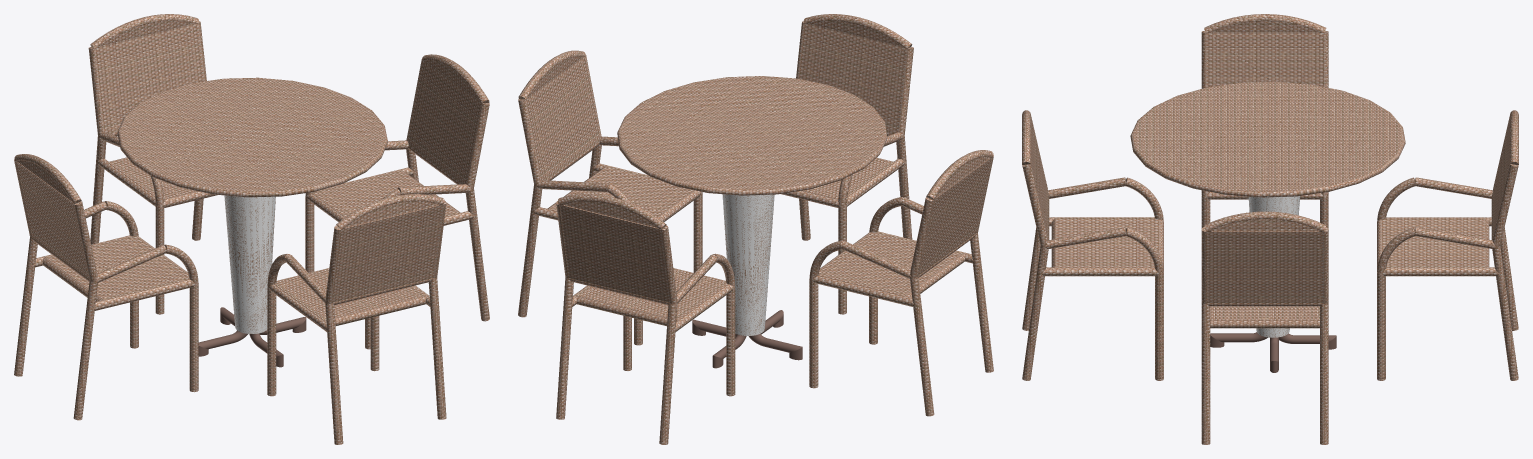
Rendered from garden furniture 5.dae.
3 renders of one model, left to right at view 1: azimuth 30°, elevation 25°; view 2: azimuth 150°, elevation 25°; view 3: azimuth 270°, elevation 25°, orthographic.
Parts seen in each view (by area): view 1: group_3, group_9 (×2), group_0 (×2), group_5 (×2), group_7 (×2), group_10 (×8), group_8 (×7), group_4, group_6 (×6), group_1 (×5), OD_0.03_m_ID_0.01_m; view 2: group_3, group_0 (×2), group_5 (×2), group_9 (×2), group_7 (×2), group_1 (×8), group_8 (×7), group_4, group_6 (×6), group_10 (×5), OD_0.03_m_ID_0.01_m; view 3: group_3, group_5 (×2), group_10 (×10), group_1 (×10), group_7, group_6 (×6), group_0 (×2), group_9 (×2), group_4, OD_0.03_m_ID_0.01_m (×2), group_8.
Part boxes in pixels (left/top/right/bottom): group_3: left=117, top=77, right=387, bottom=197; group_9 (×2): left=274, top=201, right=442, bottom=320; group_0 (×2): left=95, top=21, right=203, bottom=199; group_5 (×2): left=312, top=60, right=481, bottom=217; group_7 (×2): left=16, top=160, right=189, bottom=300; group_10 (×8): left=267, top=194, right=446, bottom=444; group_8 (×7): left=14, top=154, right=198, bottom=420; group_4: left=224, top=195, right=275, bottom=333; group_6 (×6): left=305, top=54, right=489, bottom=321; group_1 (×5): left=88, top=14, right=217, bottom=314; OD_0.03_m_ID_0.01_m: left=198, top=330, right=247, bottom=356; group_3: left=617, top=76, right=887, bottom=195; group_0 (×2): left=560, top=201, right=728, bottom=320; group_5 (×2): left=520, top=56, right=694, bottom=217; group_9 (×2): left=799, top=21, right=907, bottom=199; group_7 (×2): left=818, top=157, right=991, bottom=296; group_1 (×8): left=556, top=194, right=735, bottom=444; group_8 (×7): left=809, top=150, right=993, bottom=416; group_4: left=722, top=194, right=774, bottom=335; group_6 (×6): left=518, top=50, right=702, bottom=317; group_10 (×5): left=781, top=14, right=913, bottom=314; OD_0.03_m_ID_0.01_m: left=748, top=334, right=802, bottom=360; group_3: left=1130, top=81, right=1405, bottom=197; group_5 (×2): left=1207, top=219, right=1322, bottom=320; group_10 (×10): left=1022, top=110, right=1163, bottom=380; group_1 (×10): left=1377, top=110, right=1518, bottom=380; group_7: left=1206, top=21, right=1324, bottom=87; group_6 (×6): left=1201, top=211, right=1328, bottom=444; group_0 (×2): left=1381, top=116, right=1509, bottom=267; group_9 (×2): left=1031, top=116, right=1159, bottom=267; group_4: left=1248, top=196, right=1300, bottom=337; OD_0.03_m_ID_0.01_m (×2): left=1210, top=332, right=1336, bottom=349; group_8: left=1204, top=14, right=1326, bottom=33.
Size of the model in its own units: 63.39 by 66.14 by 34.14.
4 materials, 2 textured.
